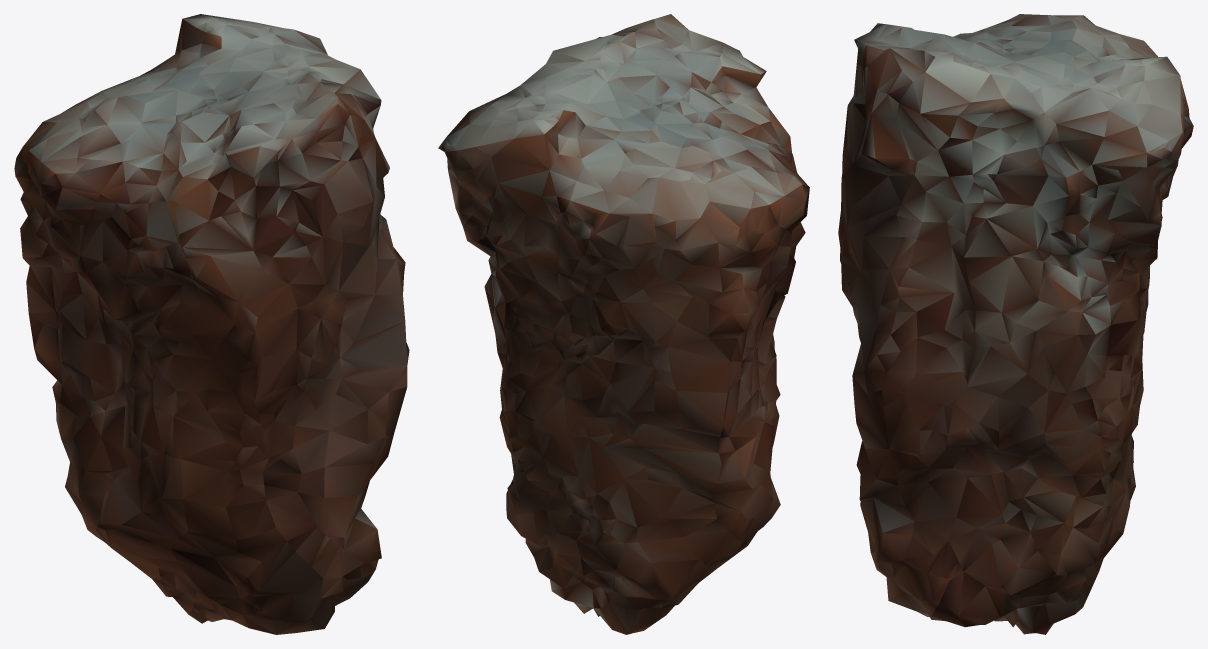
File: CliffRockA8B_LOD1.fbx
The picture shows the model from 3 angles, left to right: view 1: azimuth 30°, elevation 25°; view 2: azimuth 150°, elevation 25°; view 3: azimuth 270°, elevation 25°; orthographic projection. The views are drawn at different scales.
Visible parts, largest first — view 1: CliffRockA8B_LOD1; view 2: CliffRockA8B_LOD1; view 3: CliffRockA8B_LOD1.
Boxes of the visible parts, x1,y1,x2,y2 form: CliffRockA8B_LOD1: (14,14,409,634); CliffRockA8B_LOD1: (438,14,809,634); CliffRockA8B_LOD1: (838,14,1193,634).
Size of the model in its own units: 25.85 by 44.41 by 23.88.
